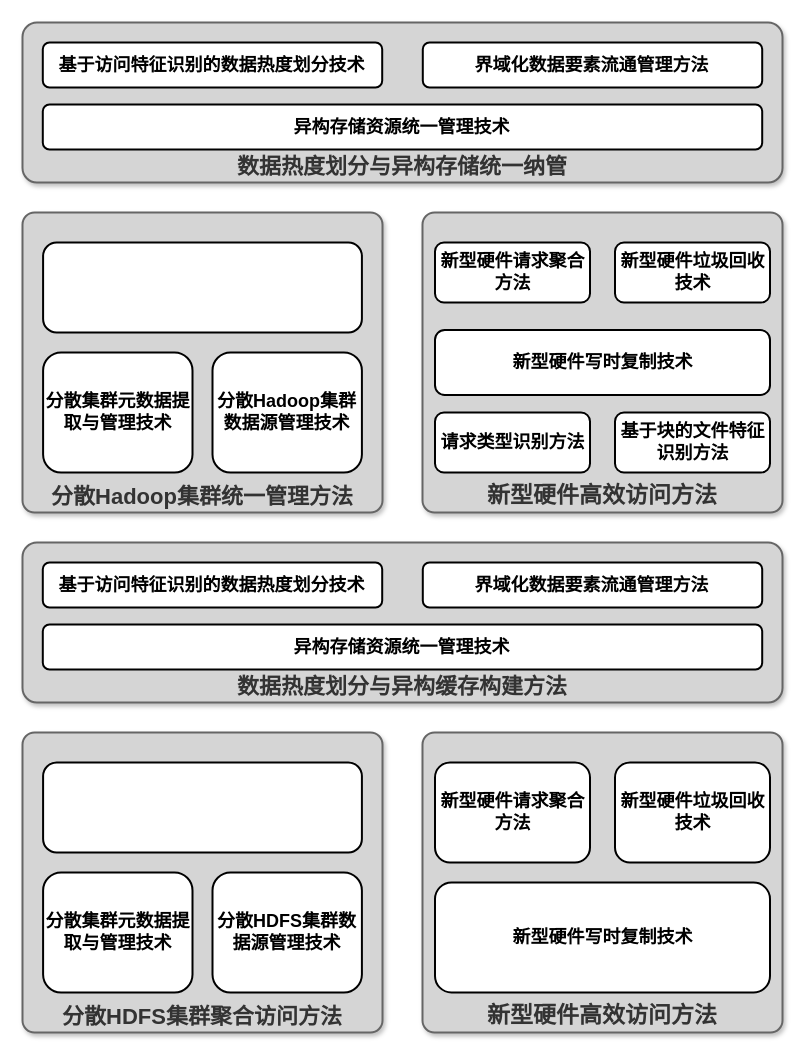
This 806x1057 diagram has some shape labels left out. Here are the shapes that lost their labels. From the top down, the centre of each, then its label:
the point at 202,287: 分散Hadoop集群统一访问技术
the point at 202,807: 分散HDFS集群聚合访问技术
